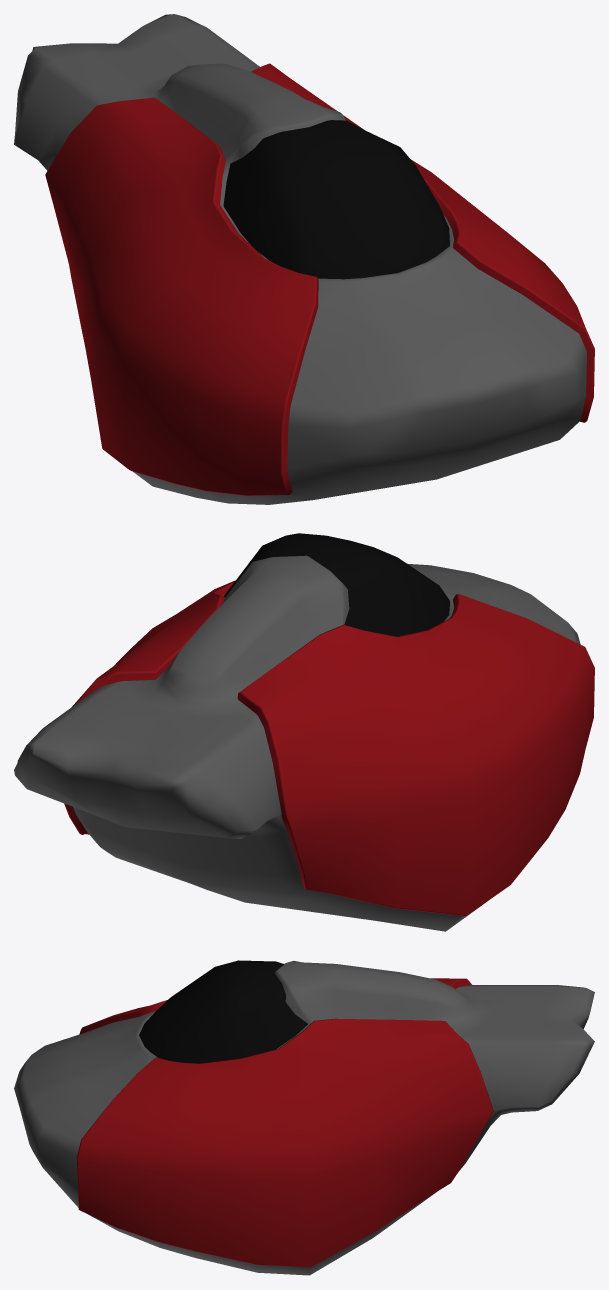
Rendered from Ship_enemy_11_Hull.fbx.
The picture shows the model from 3 angles, top to bottom: view 1: azimuth 30°, elevation 25°; view 2: azimuth 150°, elevation 25°; view 3: azimuth 270°, elevation 25°; orthographic projection. The views are drawn at different scales.
Parts seen in each view (by area): view 1: Ship_enemy_11_Hull; view 2: Ship_enemy_11_Hull; view 3: Ship_enemy_11_Hull.
Boxes of the visible parts, x1,y1,x2,y2 form: Ship_enemy_11_Hull: [14, 14, 594, 504]; Ship_enemy_11_Hull: [14, 533, 594, 931]; Ship_enemy_11_Hull: [14, 960, 594, 1275].
Bounding box in the file's own units: 268 × 220 × 450.
